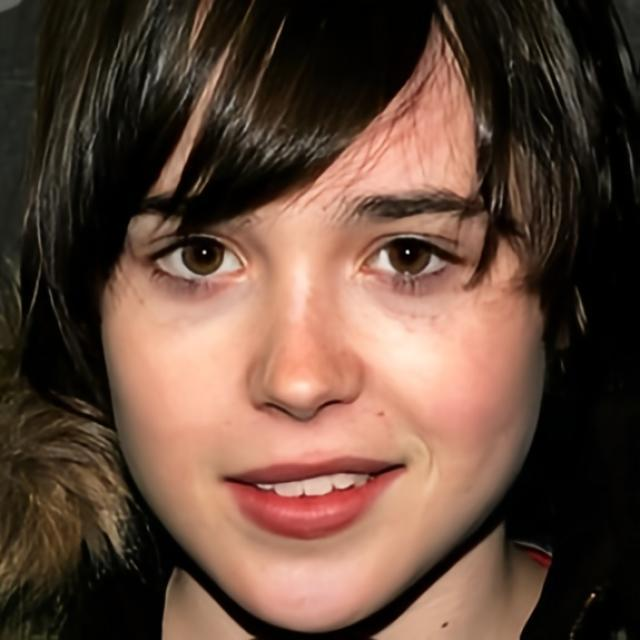happy: (95, 0, 548, 636)
